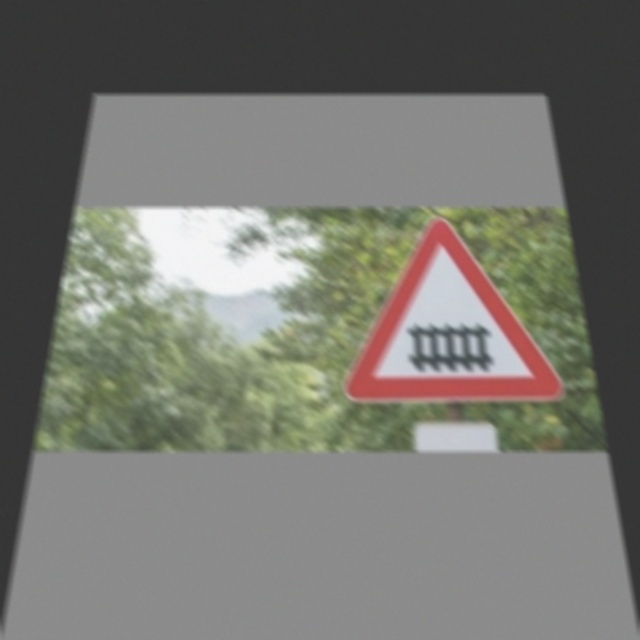Guarded_Level_Crossing: (346, 218, 567, 403)
